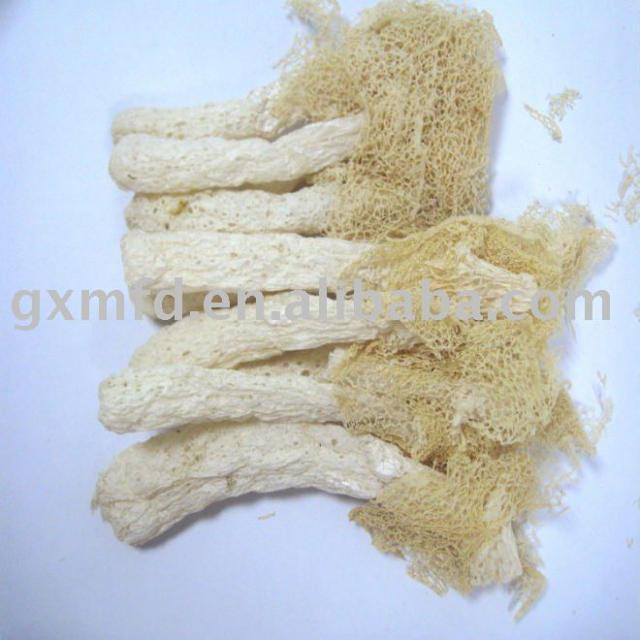Dictyophora indusiate: (96, 20, 613, 601)
